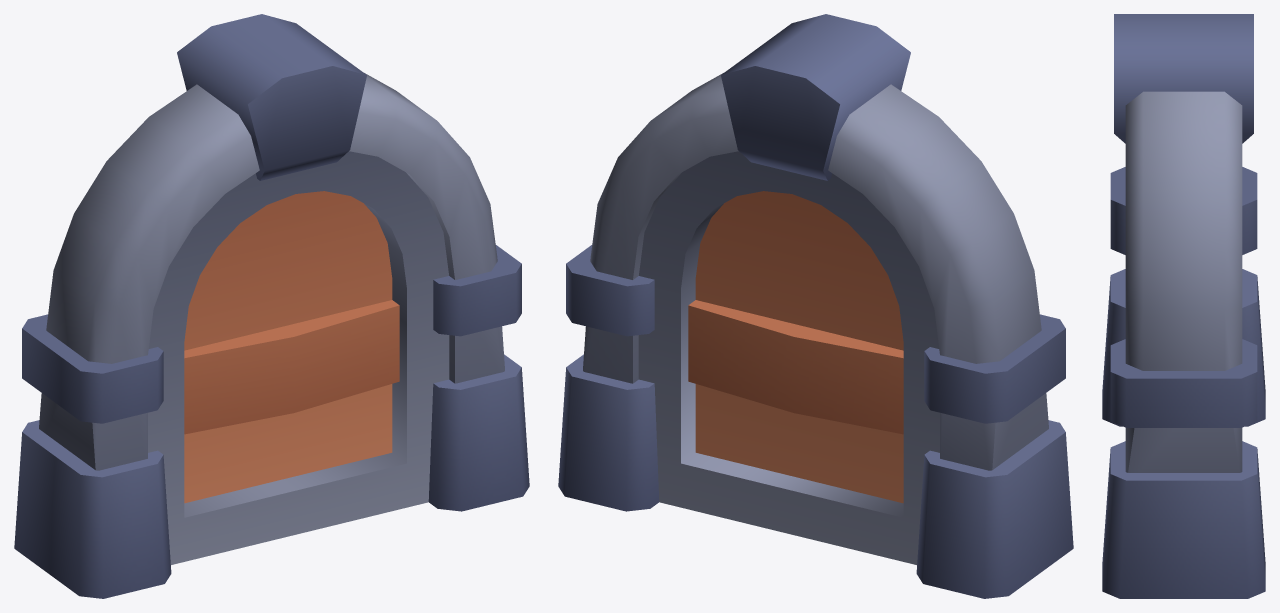
File: gate-door.fbx
3 views of the same model, side by side, from view 1: azimuth 30°, elevation 25°; view 2: azimuth 150°, elevation 25°; view 3: azimuth 270°, elevation 25° (orthographic).
Parts seen in each view (by area): view 1: gate-door, door; view 2: gate-door, door; view 3: gate-door.
Boxes of the visible parts, bbox=[...] form: gate-door: bbox=[14, 14, 529, 598]; door: bbox=[148, 151, 449, 564]; gate-door: bbox=[558, 14, 1073, 598]; door: bbox=[638, 151, 939, 564]; gate-door: bbox=[1102, 14, 1265, 598].
Bounding box in the file's own units: 440 × 440 × 140.
Materials: 1 (1 with a texture image).
